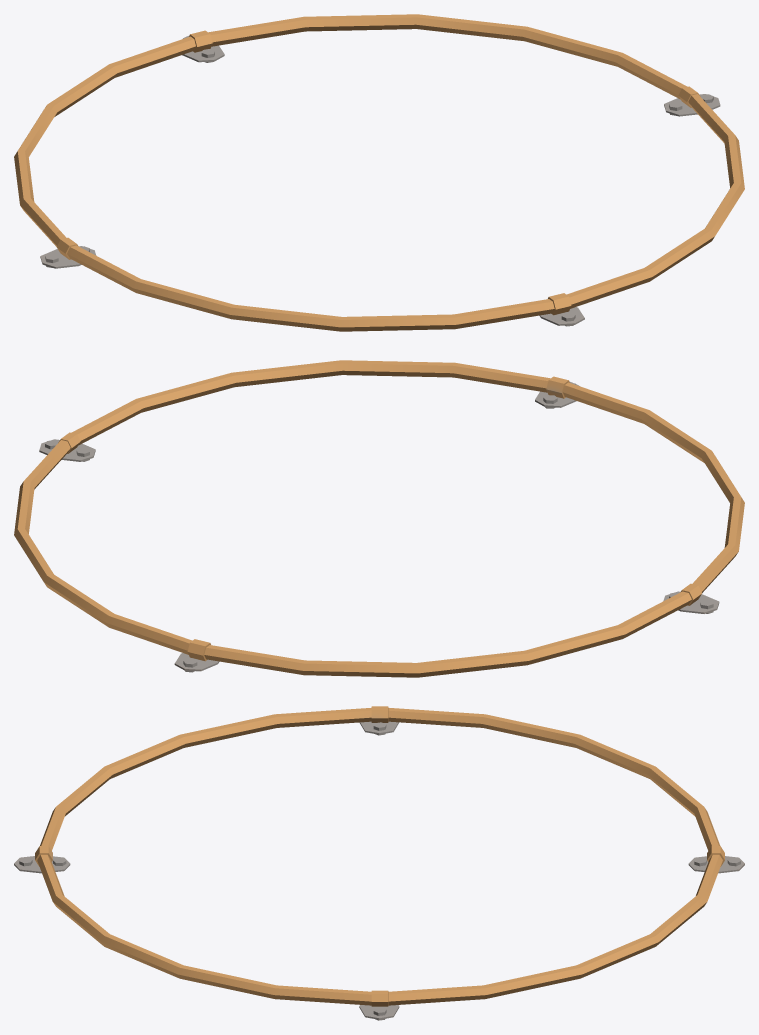
Rendered from BrassRing.fbx.
3 renders of one model, top to bottom at view 1: azimuth 30°, elevation 25°; view 2: azimuth 150°, elevation 25°; view 3: azimuth 270°, elevation 25°, orthographic. The views are drawn at different scales.
Visible parts, largest first — view 1: BrassRing; view 2: BrassRing; view 3: BrassRing.
Boxes of the visible parts, x1,y1,x2,y2 form: BrassRing: [14, 14, 744, 331]; BrassRing: [14, 360, 744, 677]; BrassRing: [14, 706, 744, 1020].
Bounding box in the file's own units: 4.33 × 0.1214 × 4.33.
